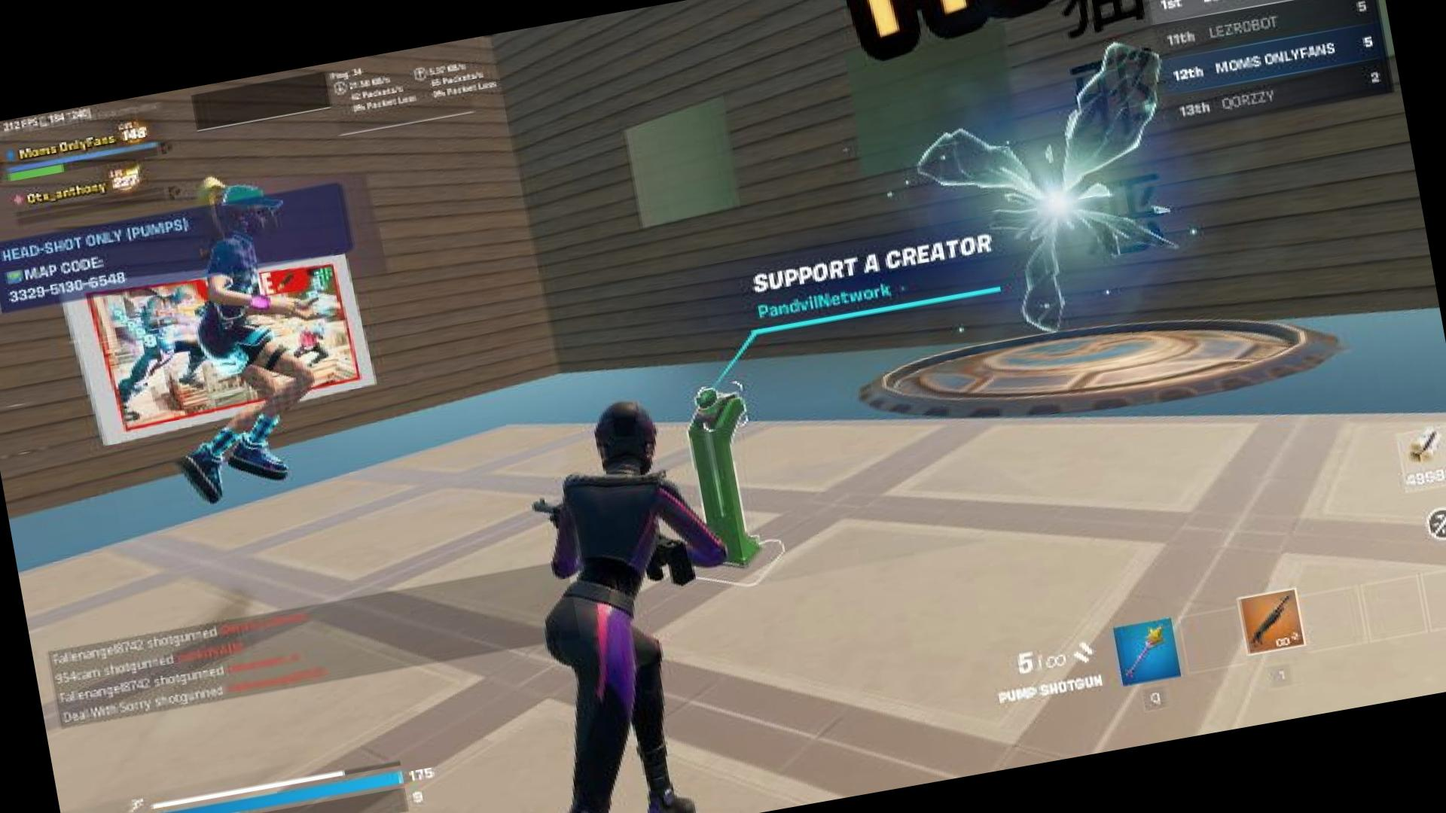player: (140, 159, 381, 571)
